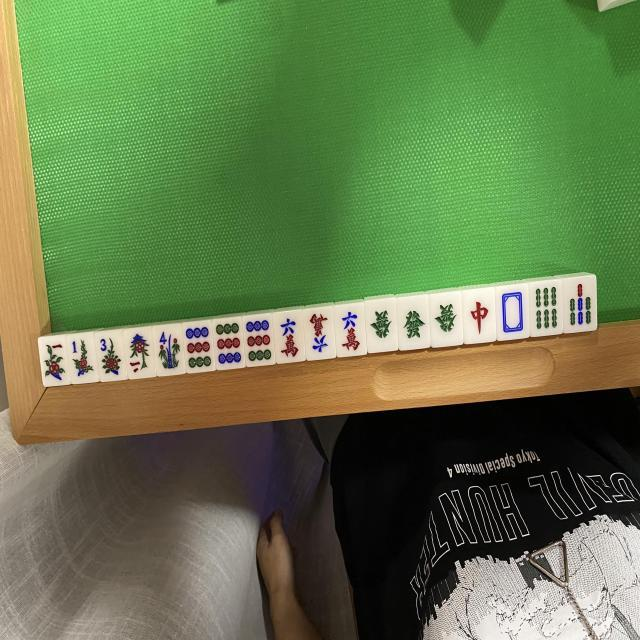bf1: (70, 340, 94, 378)
bf3: (96, 332, 126, 380)
bf4: (156, 330, 181, 370)
bs1: (44, 341, 64, 382)
bs2: (127, 334, 150, 374)
hdg: (430, 292, 466, 346), (398, 296, 432, 348), (365, 300, 400, 350)
hdr: (465, 294, 498, 344)
hdw: (496, 287, 531, 340)
sb6: (531, 283, 565, 337)
sb7: (562, 278, 598, 333)
sc6: (334, 303, 367, 356), (272, 314, 305, 366), (306, 309, 338, 362)
sd9: (244, 316, 277, 366), (213, 319, 245, 369), (186, 322, 217, 372)
